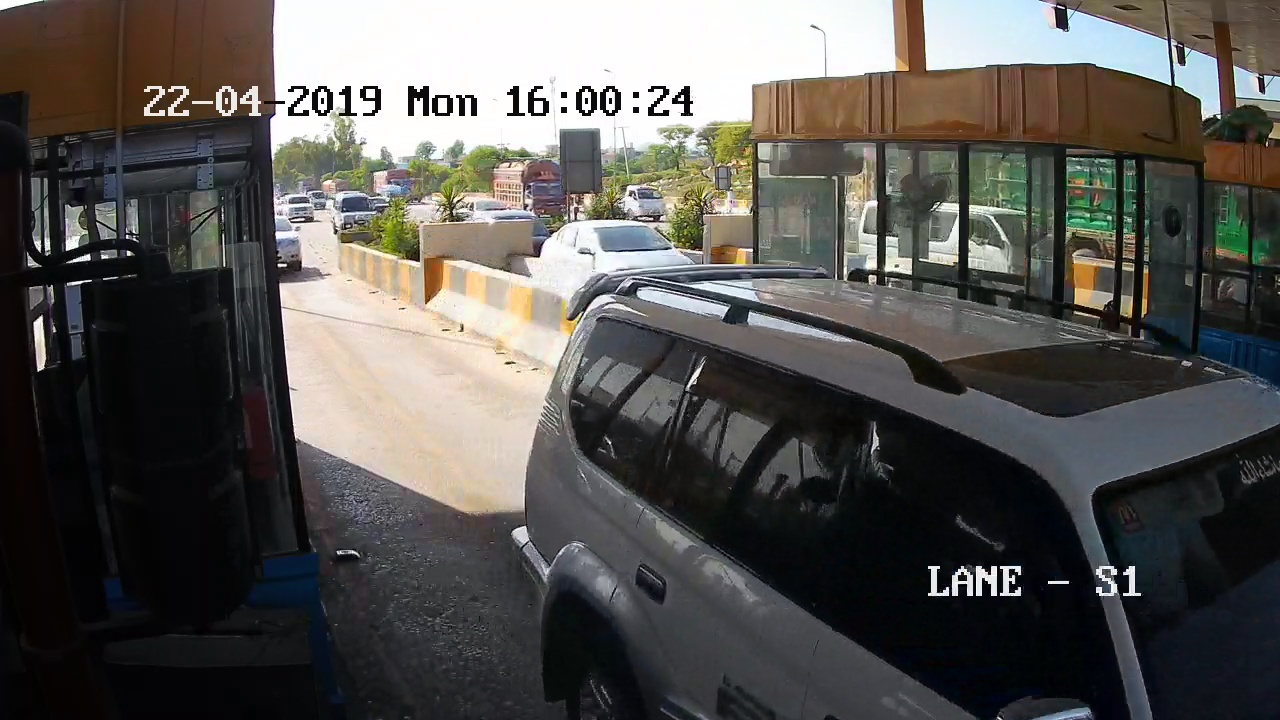car: (495, 276, 1182, 720)
